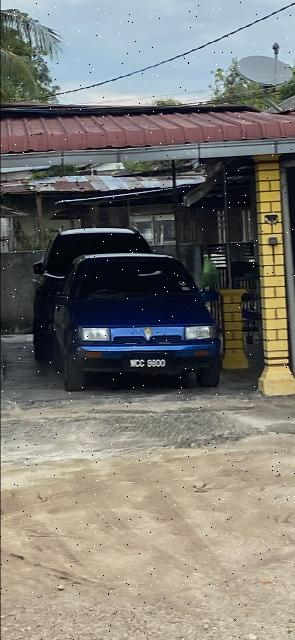License_Plate: (124, 357, 170, 372)
car: (54, 256, 230, 394)
